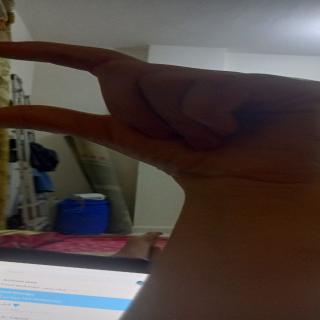DELL: (0, 32, 320, 200)
